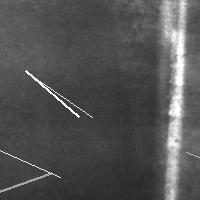scratches: (156, 1, 187, 199), (26, 70, 97, 122), (20, 65, 83, 121), (0, 140, 65, 182), (0, 168, 56, 200), (181, 147, 200, 192)
